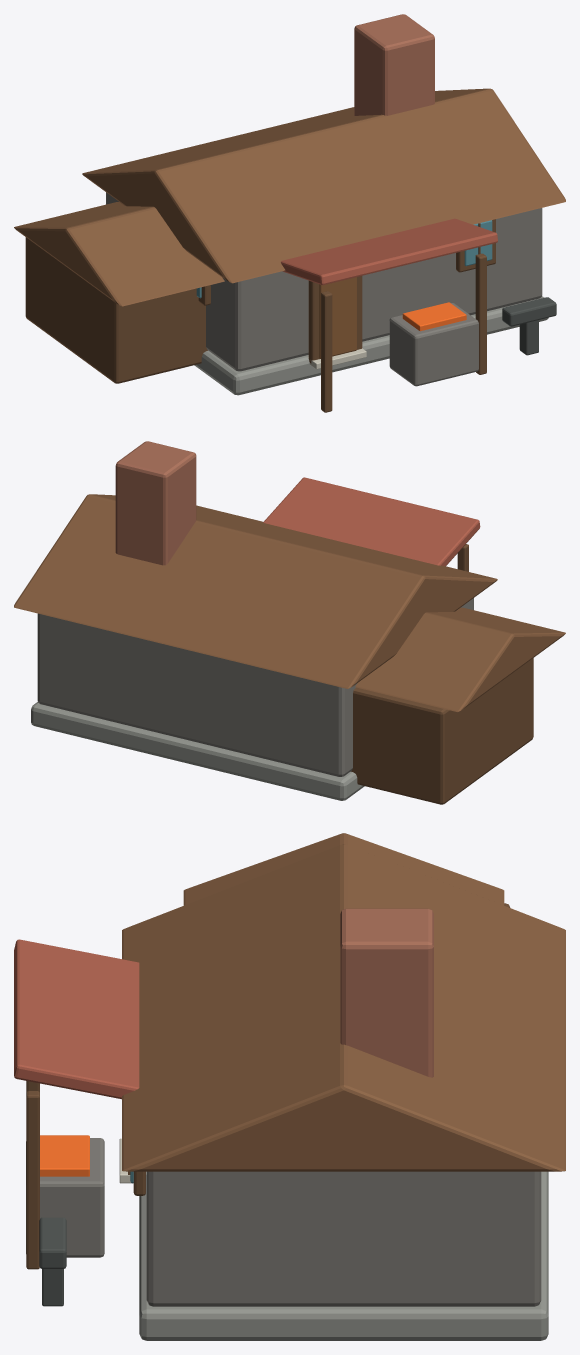
File: temperate-smithy-1.glb
The picture shows the model from 3 angles, top to bottom: view 1: azimuth 30°, elevation 25°; view 2: azimuth 150°, elevation 25°; view 3: azimuth 270°, elevation 25°; orthographic projection. The views are drawn at different scales.
Visible parts, largest first — view 1: Wood shingles, Soot stone, Dark beams, Chimney brick, Clay tiles, Foundation stone, Door oak, Forged iron, Forge ember, Blue glass; view 2: Wood shingles, Soot stone, Dark beams, Clay tiles, Chimney brick, Foundation stone; view 3: Wood shingles, Soot stone, Clay tiles, Foundation stone, Chimney brick, Dark beams, Forged iron, Forge ember.
Boxes of the visible parts, <box> form: Wood shingles: <box>14,88,565,306</box>; Soot stone: <box>106,192,542,386</box>; Dark beams: <box>25,219,495,412</box>; Chimney brick: <box>354,14,434,115</box>; Clay tiles: <box>281,218,497,285</box>; Foundation stone: <box>194,296,548,395</box>; Door oak: <box>319,277,356,358</box>; Forged iron: <box>502,297,556,355</box>; Forge ember: <box>402,302,466,331</box>; Blue glass: <box>196,220,492,298</box>; Wood shingles: <box>14,494,565,711</box>; Soot stone: <box>37,598,473,776</box>; Dark beams: <box>351,544,533,804</box>; Clay tiles: <box>263,477,480,566</box>; Chimney brick: <box>115,441,196,565</box>; Foundation stone: <box>31,702,364,800</box>; Wood shingles: <box>122,833,565,1171</box>; Soot stone: <box>26,1138,541,1306</box>; Clay tiles: <box>14,939,139,1099</box>; Foundation stone: <box>139,1171,548,1340</box>; Chimney brick: <box>340,908,433,1077</box>; Dark beams: <box>26,903,510,1269</box>; Forged iron: <box>39,1217,66,1306</box>; Forge ember: <box>40,1135,89,1176</box>.
Bounding box in the file's own units: 5.93 × 3.28 × 4.48.
